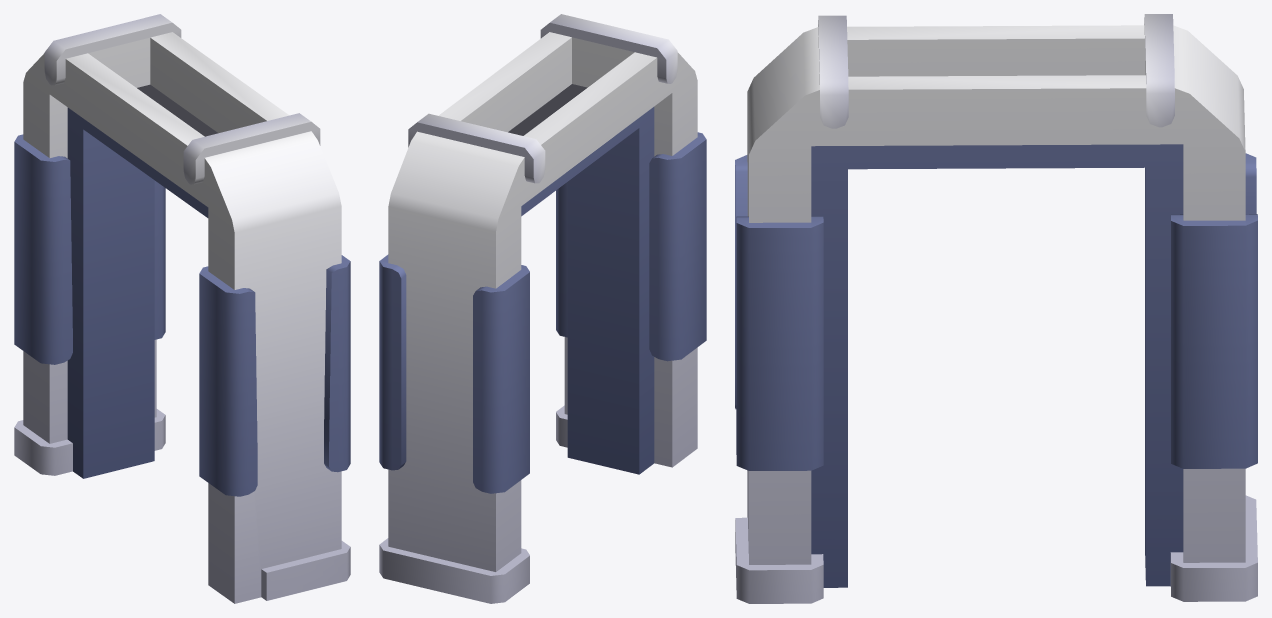
Rendered from gate-door.001_lev4.glb.
The picture shows the model from 3 angles, left to right: view 1: azimuth 30°, elevation 25°; view 2: azimuth 150°, elevation 25°; view 3: azimuth 270°, elevation 25°; orthographic projection. The views are drawn at different scales.
Visible parts, largest first — view 1: gate-door.001_lev4; view 2: gate-door.001_lev4; view 3: gate-door.001_lev4.
Boxes of the visible parts, bbox=[...] form: gate-door.001_lev4: bbox=[14, 14, 350, 603]; gate-door.001_lev4: bbox=[379, 14, 706, 603]; gate-door.001_lev4: bbox=[735, 14, 1257, 603].
Bounding box in the file's own units: 4.34 × 13.86 × 12.64.
1 material, 1 textured.
